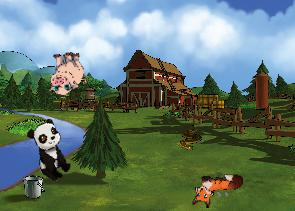fox: (191, 173, 243, 208)
panda: (24, 117, 76, 184)
pig: (45, 50, 87, 95)
